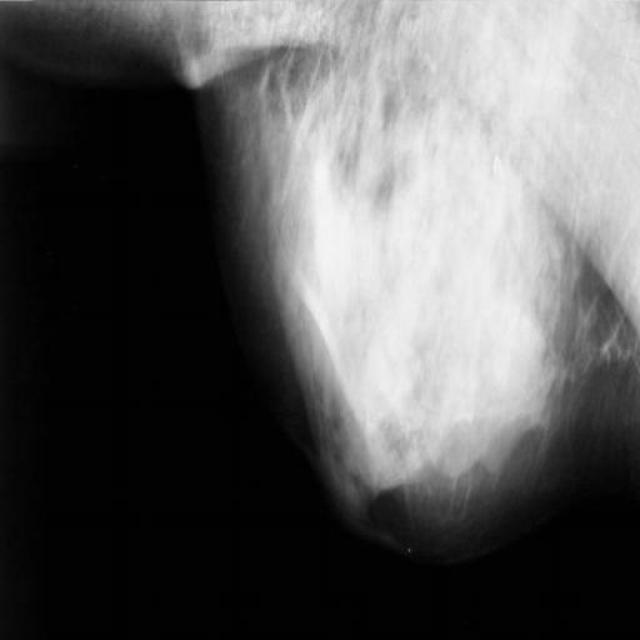cancer: (319, 70, 355, 152)
